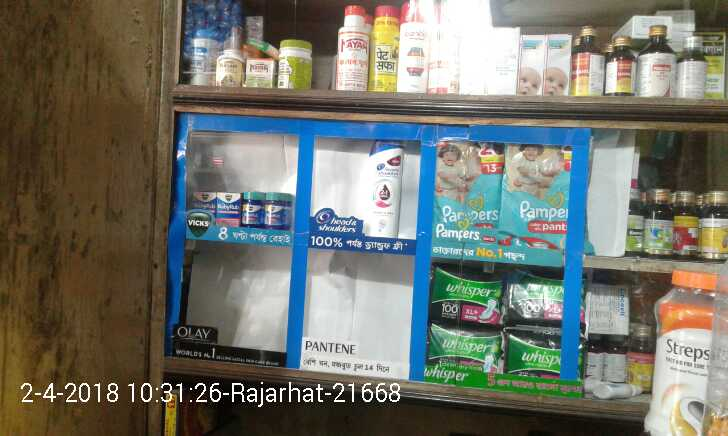vicks: (190, 190, 292, 225)
